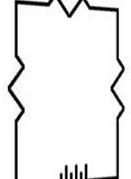resistor: (3, 44, 34, 127), (104, 49, 127, 119)
